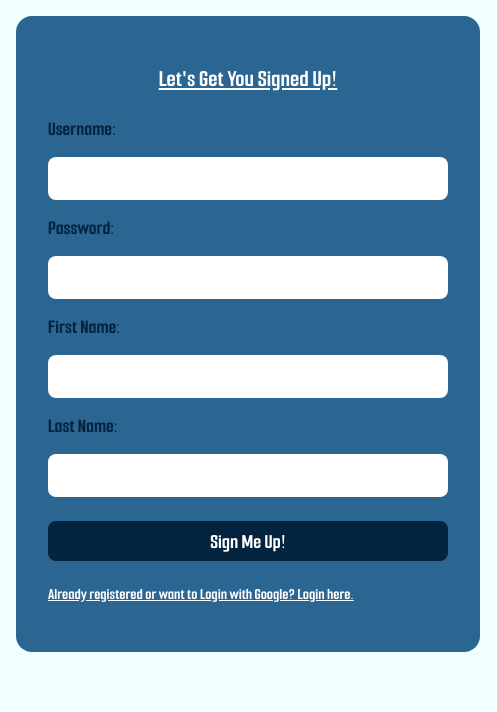
Test case: handleSubmit › navigates to login page if response.ok
Type "usernameMe" into the field labelled "Username:" at (248,178), box x1=48 y1=157 x2=448 y2=200
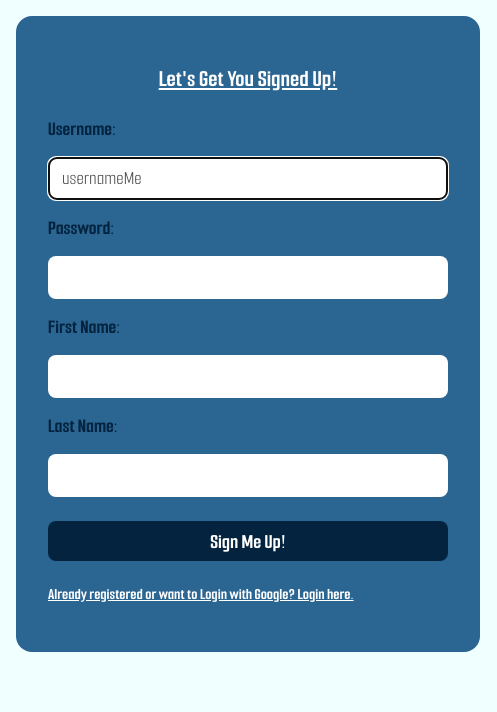
Type "Password123!" into the password field labelled "Password:" at (248,278), box x1=48 y1=256 x2=448 y2=299
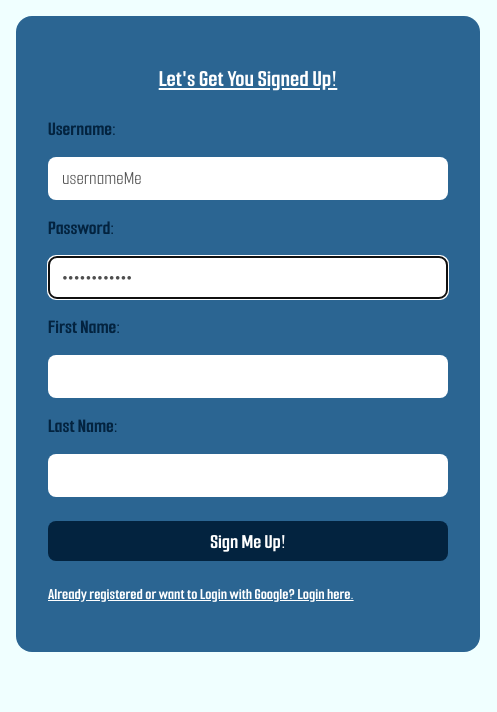
Type "Lottie" into the field labelled "First Name:" at (248,376), box x1=48 y1=355 x2=448 y2=398
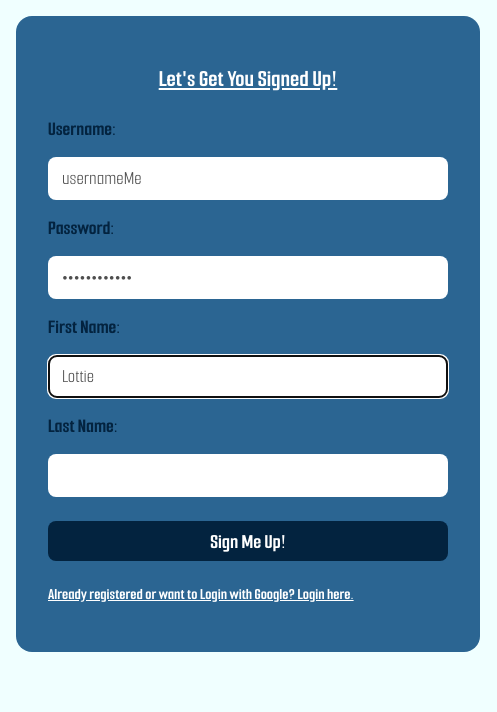
Type "Orton" into the field labelled "Last Name:" at (248,476), box x1=48 y1=454 x2=448 y2=497
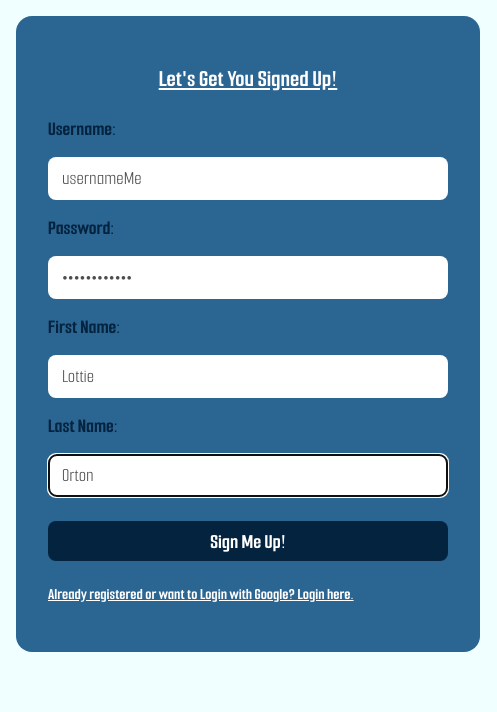
Click the button "Sign Me Up!" at (248,541), box x1=48 y1=521 x2=448 y2=561
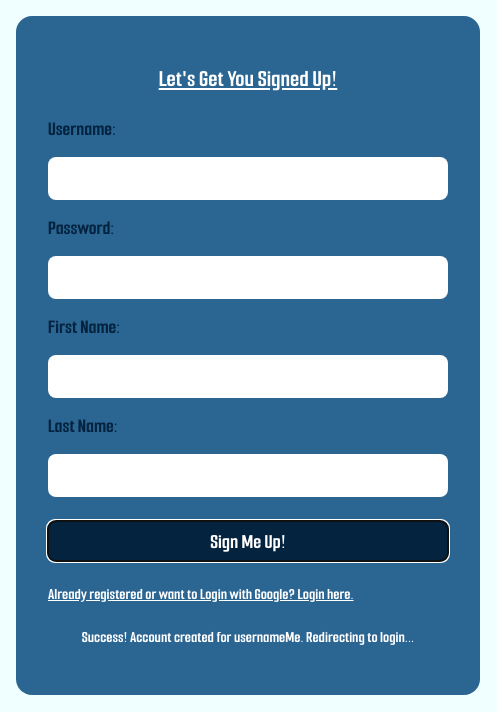
Check: the text "Success! Account created for usernameMe. Redirecting to login..." is shown, box x1=82 y1=628 x2=414 y2=647
